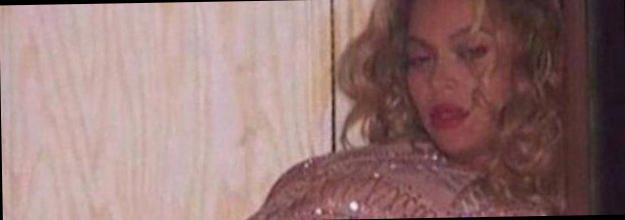Drunk: (406, 1, 519, 155)
